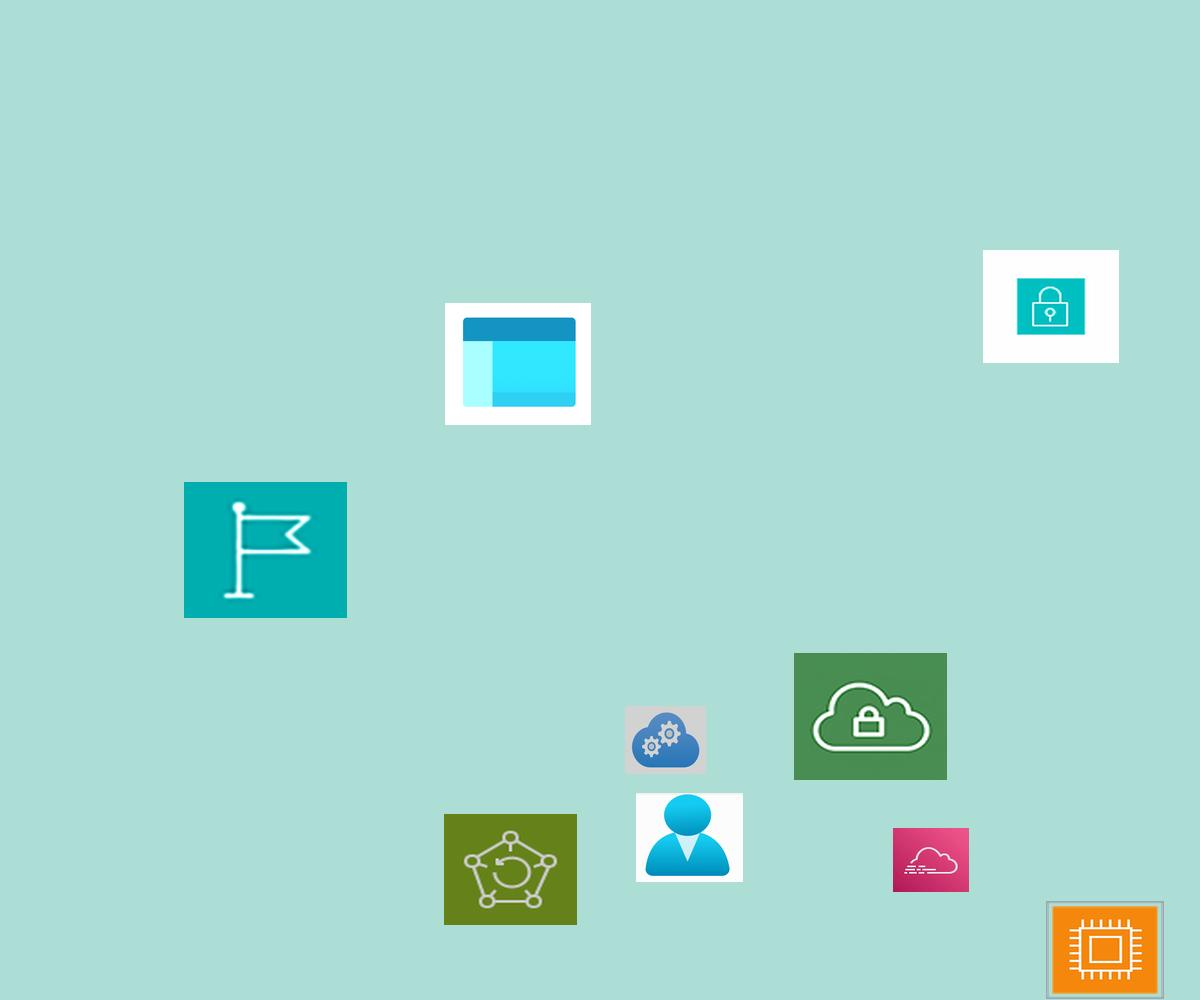AWS-Backup: (444, 814, 577, 925)
AWS-Category_Compute: (1046, 901, 1164, 999)
AWS-CloudTrail: (893, 828, 969, 892)
AWS-Private-subnet: (983, 250, 1119, 363)
AWS-Private_vpc: (794, 653, 947, 780)
AWS-Region: (184, 482, 347, 618)
Azure_cloud_services: (625, 706, 706, 774)
Azure_management-portal: (445, 303, 591, 425)
Azure_users: (636, 793, 743, 882)
